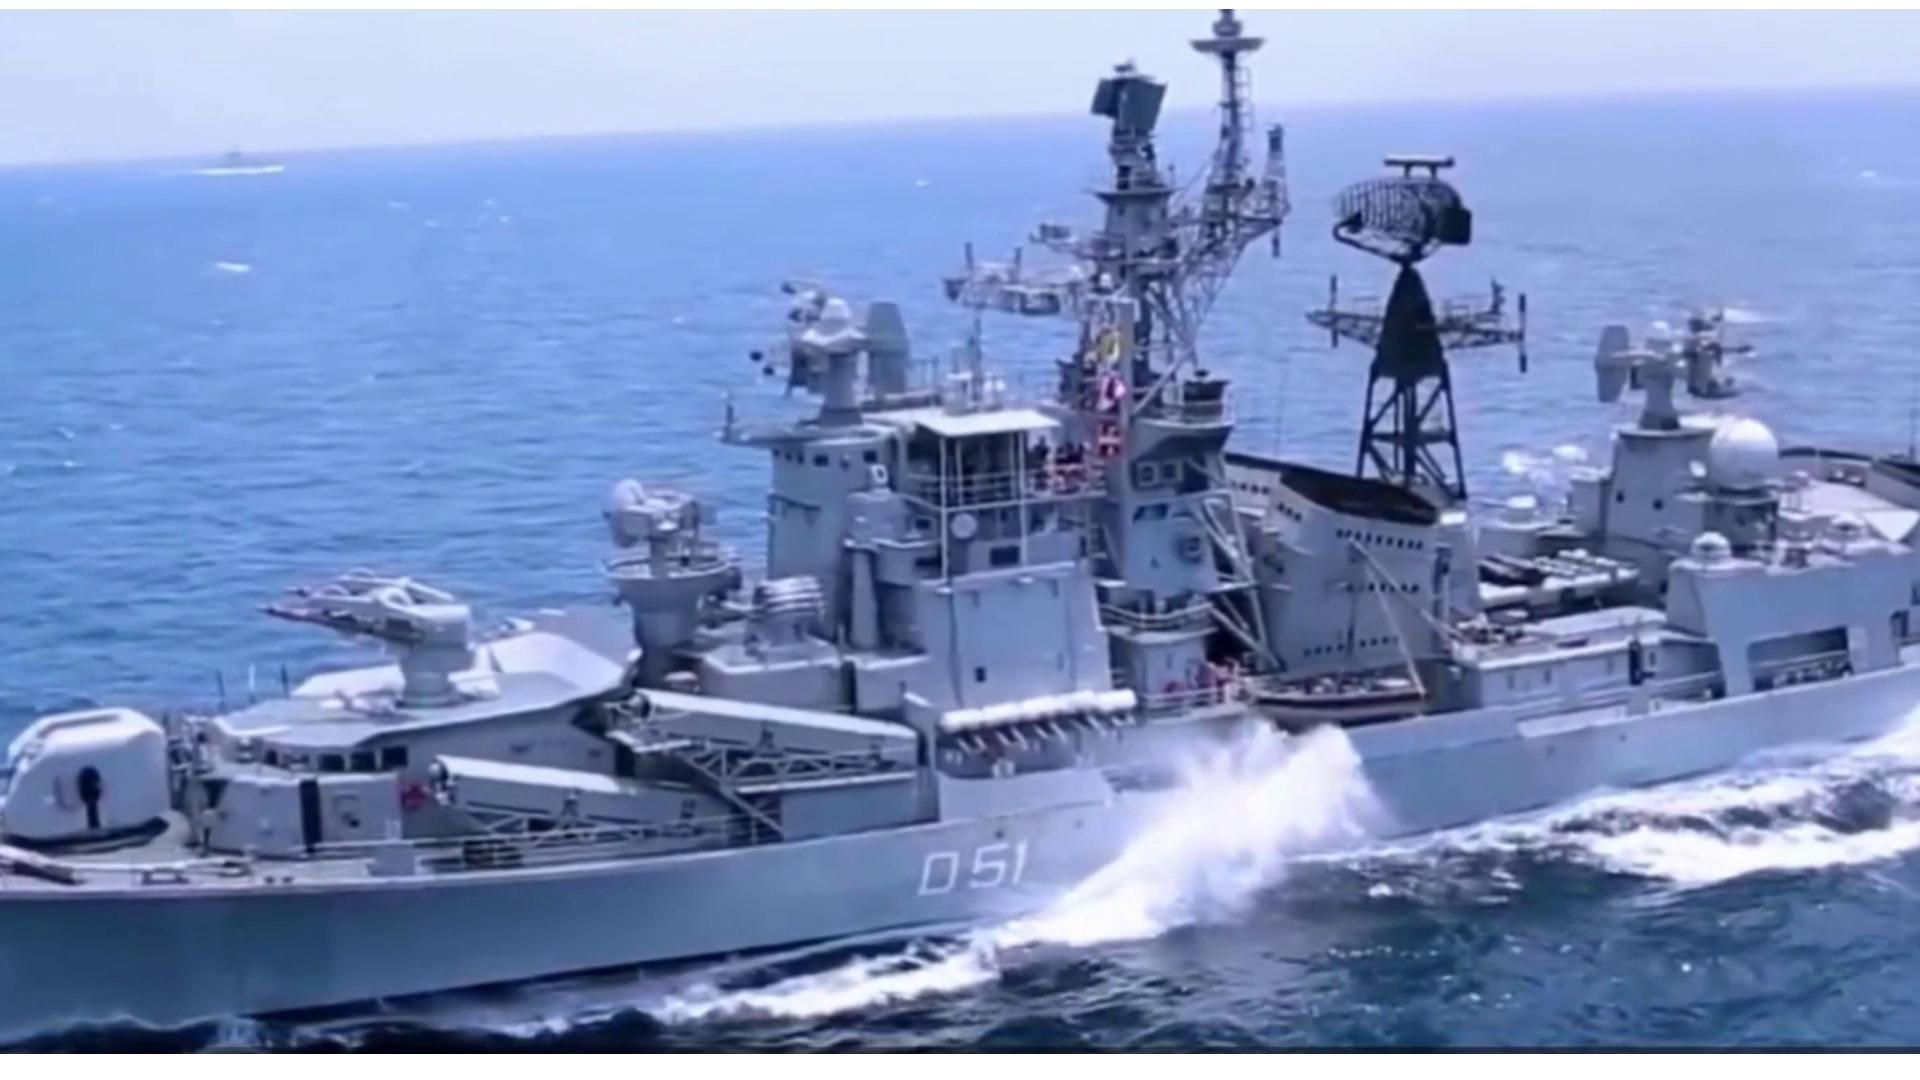OCR: (890, 824, 1040, 910)
